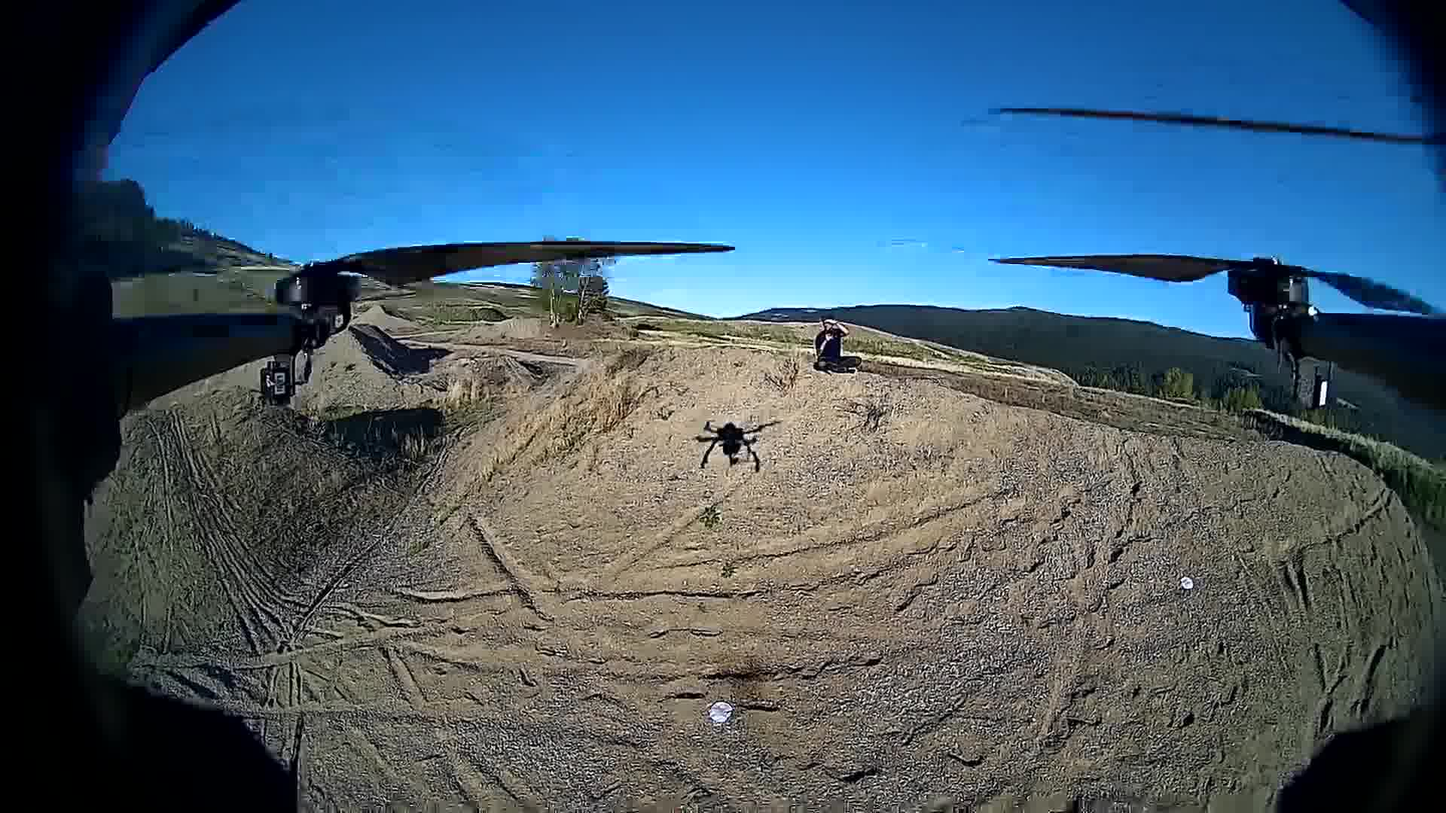Target: (708, 702, 730, 721), (1179, 575, 1192, 590)
